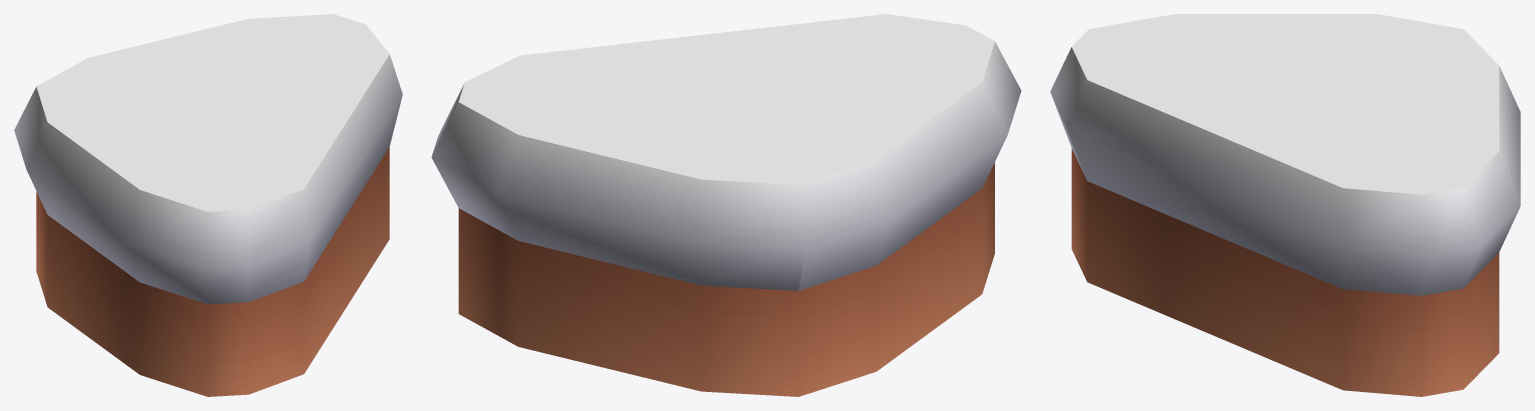
The model's file is block-snow-corner-low.glb.
The picture shows the model from 3 angles, left to right: view 1: azimuth 30°, elevation 25°; view 2: azimuth 150°, elevation 25°; view 3: azimuth 270°, elevation 25°; orthographic projection. The views are drawn at different scales.
Visible parts, largest first — view 1: block-snow-corner-low; view 2: block-snow-corner-low; view 3: block-snow-corner-low.
Boxes of the visible parts, x1,y1,x2,y2 form: block-snow-corner-low: [14, 14, 402, 396]; block-snow-corner-low: [431, 14, 1021, 396]; block-snow-corner-low: [1050, 14, 1520, 396].
Bounding box in the file's own units: 1.05 × 0.5 × 1.05.
1 material, 1 textured.
